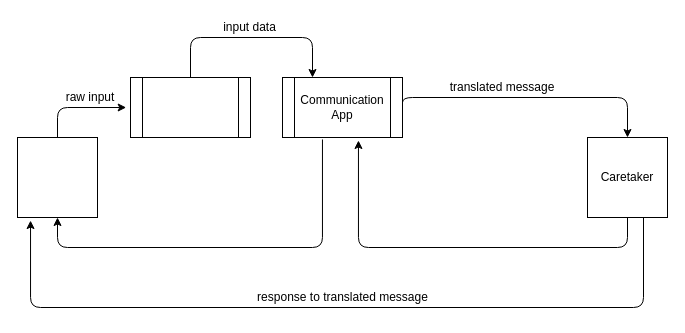
Some shapes in this 685 by 333 pixel diagram are drawn without their labels. The shapes that lost their labels are listed below. From the top down, each one's centre as x and y in pixels, then its label:
(190,107): Input Device
(57,177): Patient
